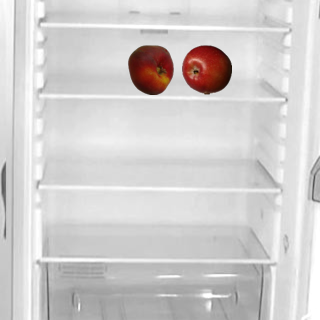Apple Braeburn: (181, 44, 231, 94)
Nectarine Flat: (125, 44, 175, 94)
